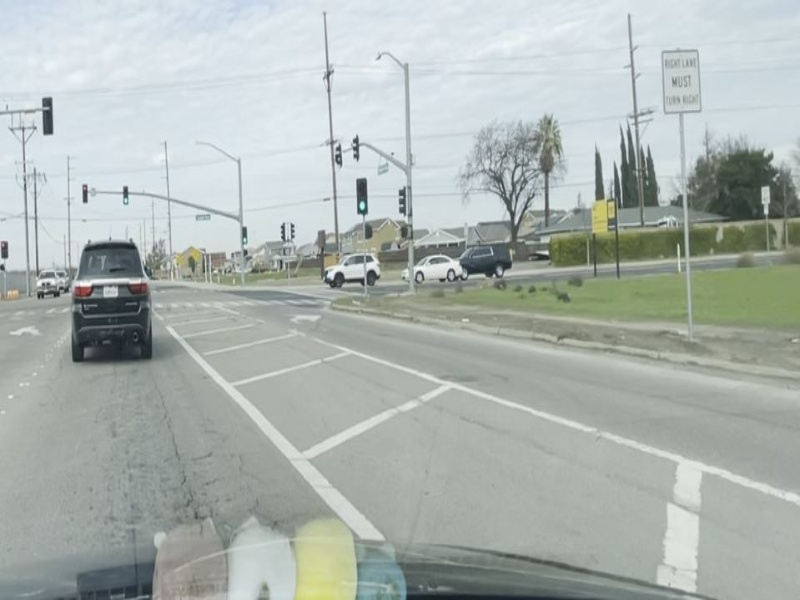merge sign: (657, 48, 706, 118)
